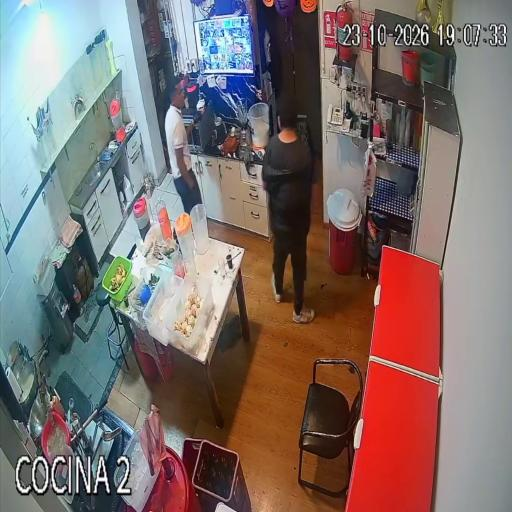Envase Llajua: (52, 394, 64, 417)
Jarra1: (133, 198, 149, 230)
Jarra2: (175, 214, 193, 251)
Jarra3: (191, 203, 209, 249)
Microondas: (188, 105, 214, 151), (183, 109, 193, 127)
Persona1: (262, 97, 315, 324)
Persona4: (165, 77, 202, 214)
Taper2: (125, 266, 169, 335)
Taper3: (143, 270, 183, 345)
Taper4: (161, 273, 214, 359)
